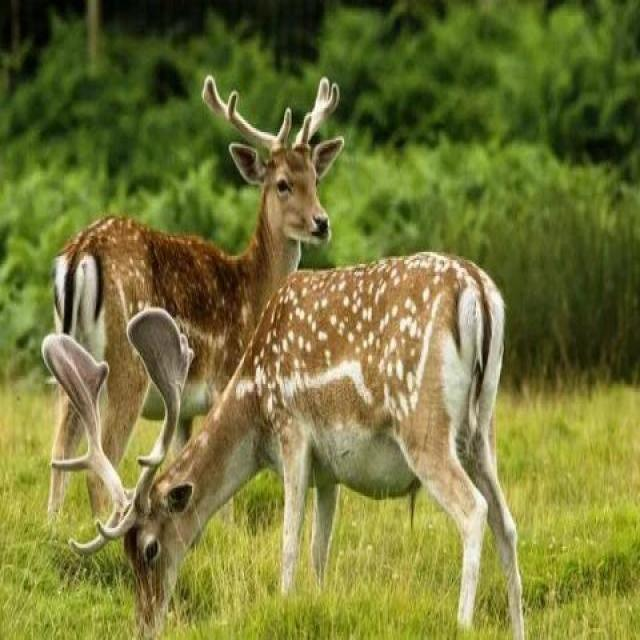deer: (130, 257, 552, 640), (33, 113, 373, 524)
